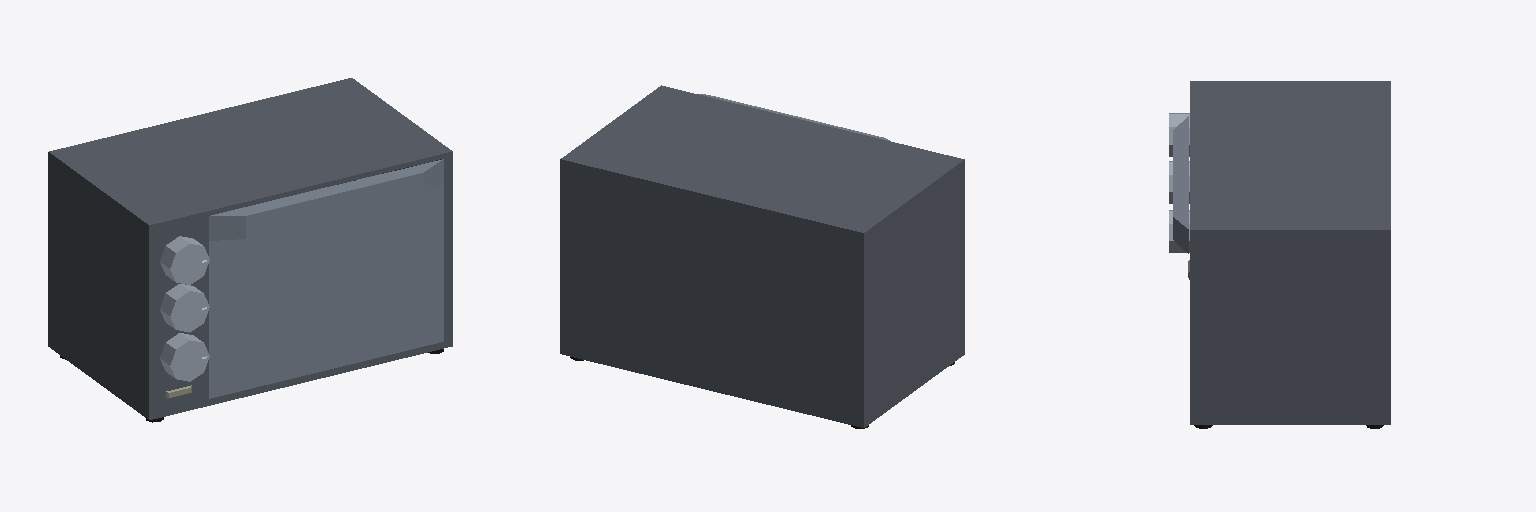
3 renders of one model, left to right at view 1: azimuth 30°, elevation 25°; view 2: azimuth 150°, elevation 25°; view 3: azimuth 270°, elevation 25°, orthographic.
Visible parts, largest first — view 1: appliance_electric_oven_Cube.253, appliance_electric_oven_door_Cube.254, appliance_electric_oven_knob_Cube.260, appliance_electric_oven_knob.002_Cube.270, appliance_electric_oven_knob.001_Cube.262; view 2: appliance_electric_oven_Cube.253; view 3: appliance_electric_oven_Cube.253, appliance_electric_oven_door_Cube.254.
Boxes of the visible parts, box(x1,y1,x2,y2) form: appliance_electric_oven_Cube.253: box(48, 78, 452, 422); appliance_electric_oven_door_Cube.254: box(209, 159, 443, 398); appliance_electric_oven_knob_Cube.260: box(160, 236, 209, 284); appliance_electric_oven_knob.002_Cube.270: box(160, 333, 209, 381); appliance_electric_oven_knob.001_Cube.262: box(160, 284, 209, 332); appliance_electric_oven_Cube.253: box(560, 85, 964, 428); appliance_electric_oven_Cube.253: box(1188, 81, 1390, 428); appliance_electric_oven_door_Cube.254: box(1173, 116, 1188, 253).
Size of the model in its own units: 13.85 by 8.76 by 8.81.
Materials: 3 (1 with a texture image).